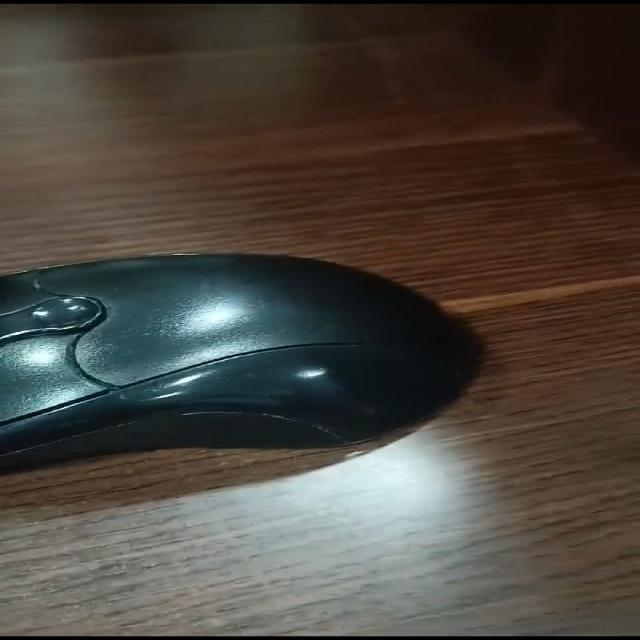mouse: (0, 255, 476, 476)
